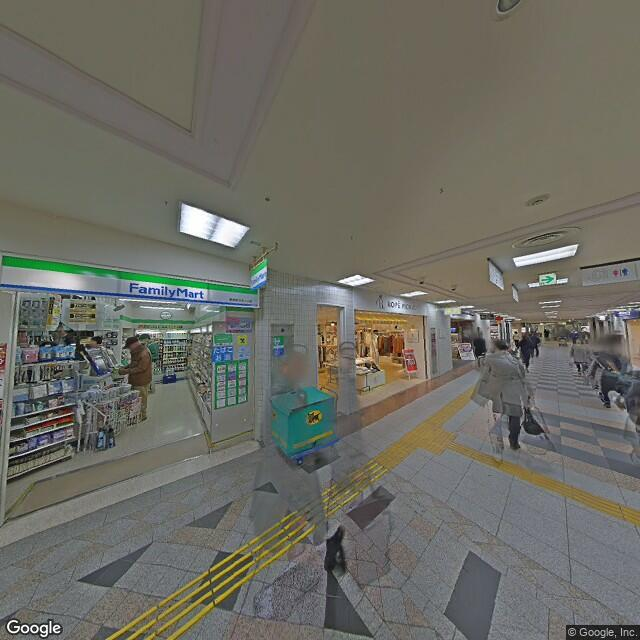family_mart: (1, 256, 260, 319), (247, 255, 268, 295)
